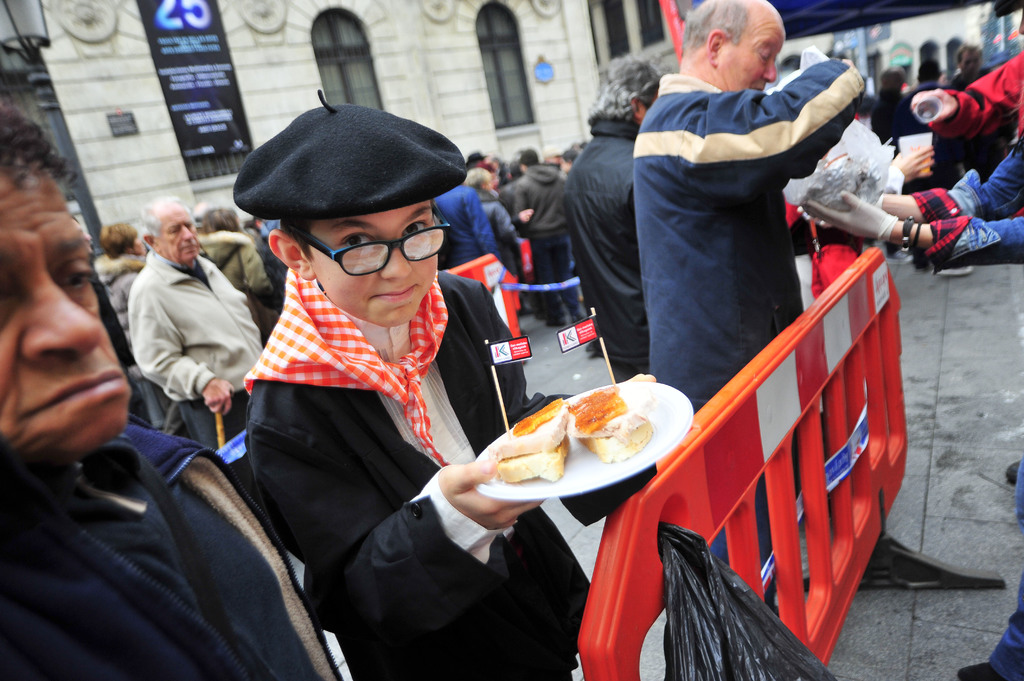Human-face: (0, 167, 136, 461), (312, 198, 433, 327), (712, 6, 797, 96), (154, 202, 200, 264)
